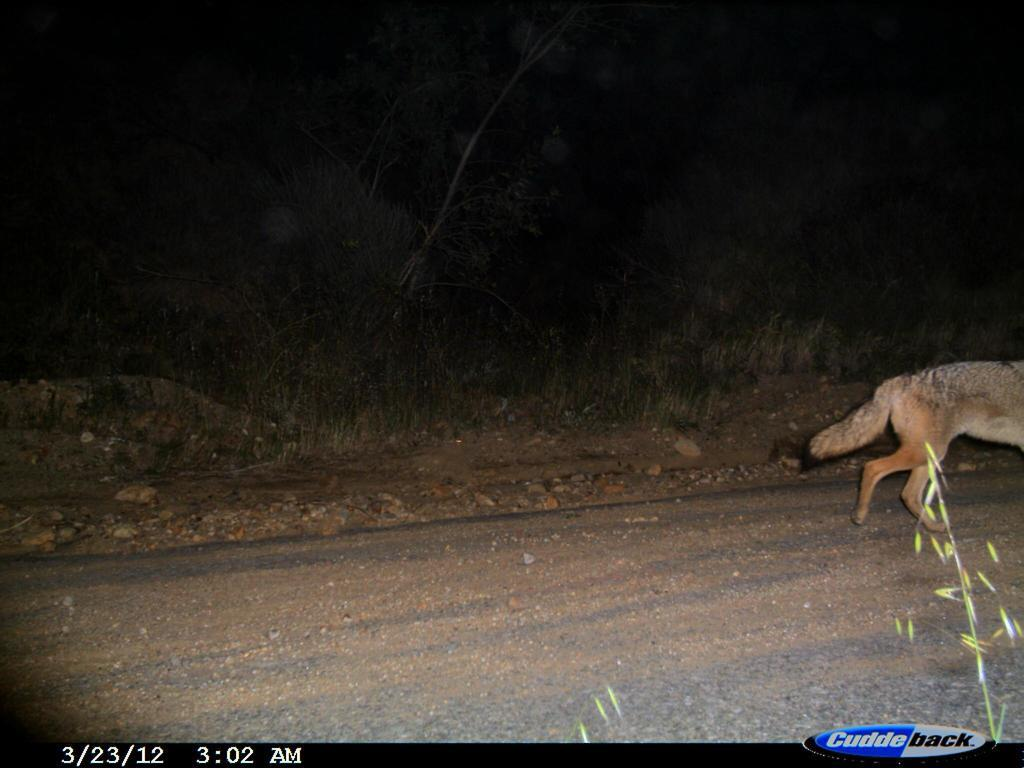coyote: (797, 351, 1021, 553)
